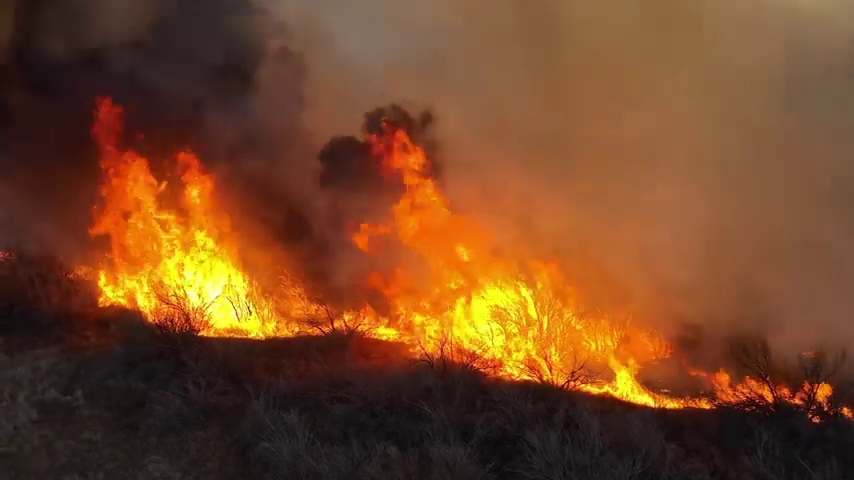forest_fire: (340, 122, 770, 408), (90, 98, 322, 335), (771, 383, 832, 402), (843, 408, 849, 416)
